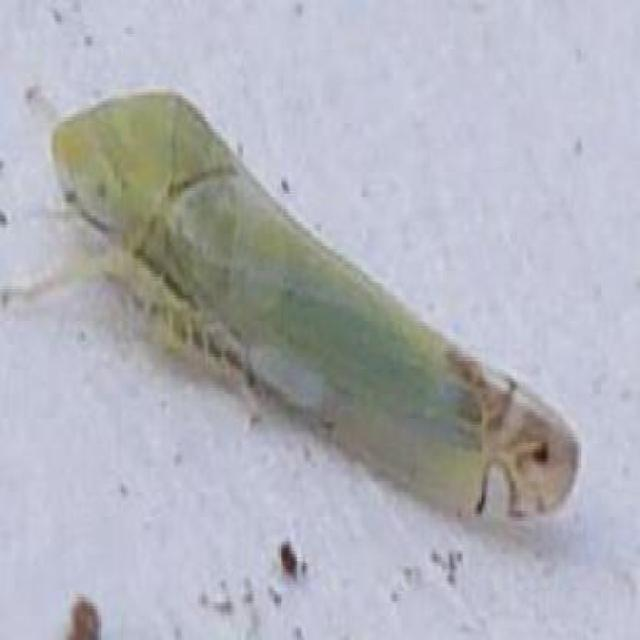green-leafhopper: (0, 91, 573, 519)
